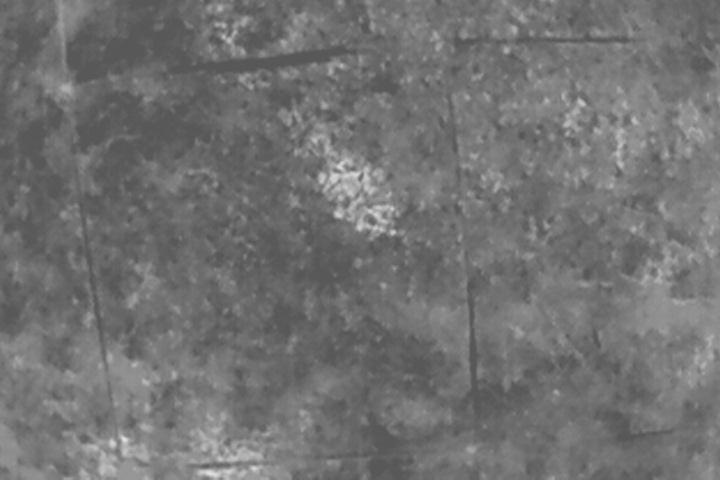landmine: (321, 160, 380, 207)
